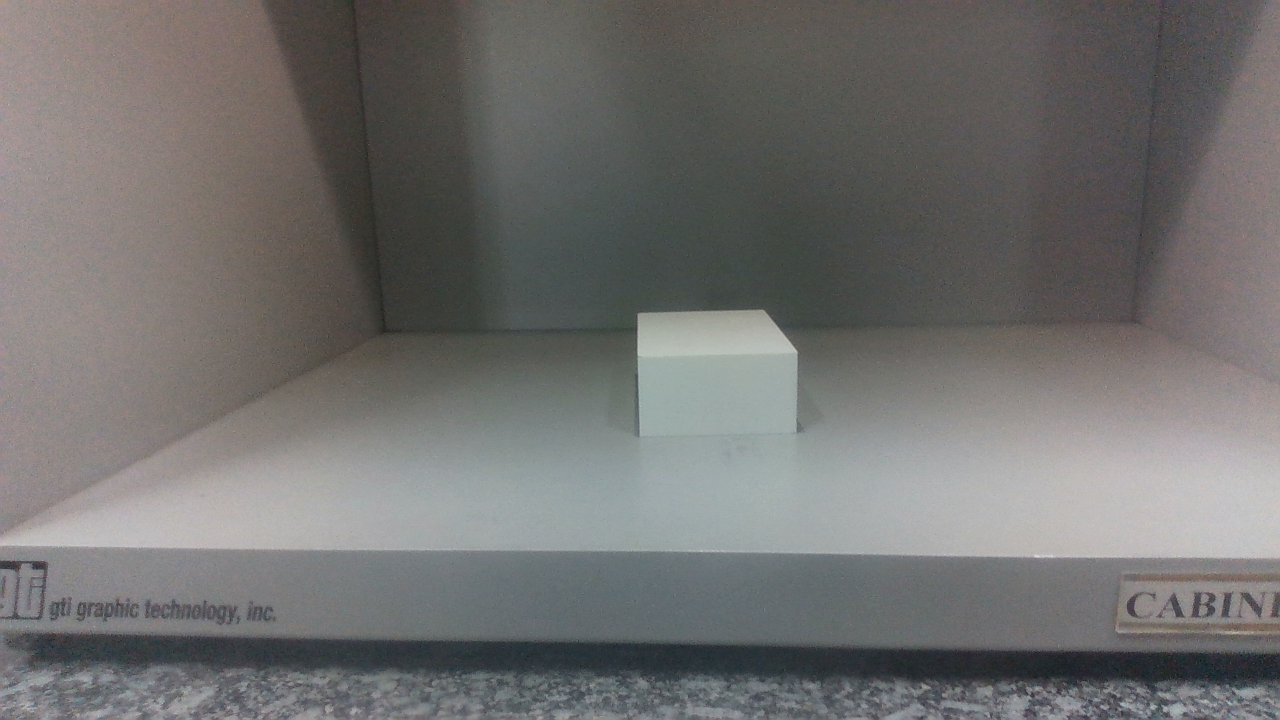Retangulo: (635, 308, 799, 436)
